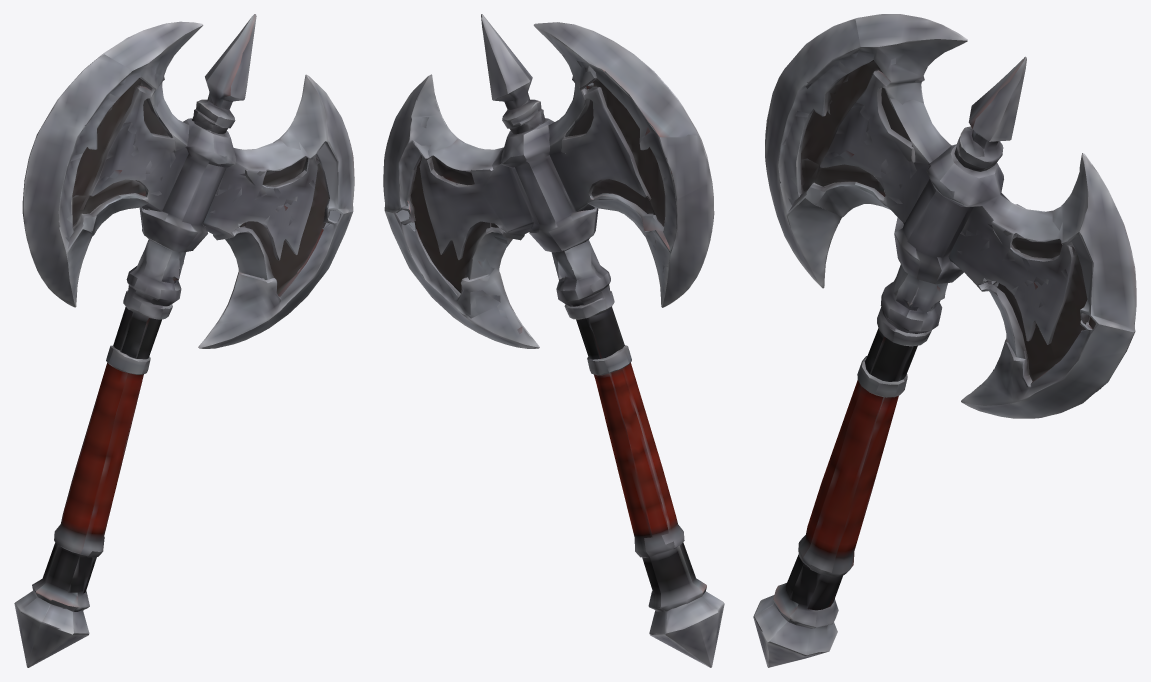
The model's file is machado_duplo.glb.
The picture shows the model from 3 angles, left to right: view 1: azimuth 30°, elevation 25°; view 2: azimuth 150°, elevation 25°; view 3: azimuth 330°, elevation 25°; orthographic projection. The views are drawn at different scales.
Parts seen in each view (by area): view 1: world; view 2: world; view 3: world.
Boxes of the visible parts, x1,y1,x2,y2 form: world: (14, 14, 354, 667); world: (383, 14, 724, 667); world: (753, 14, 1136, 667).
Size of the model in its own units: 0.7454 by 1.3 by 0.1752.
1 material, 1 textured.
